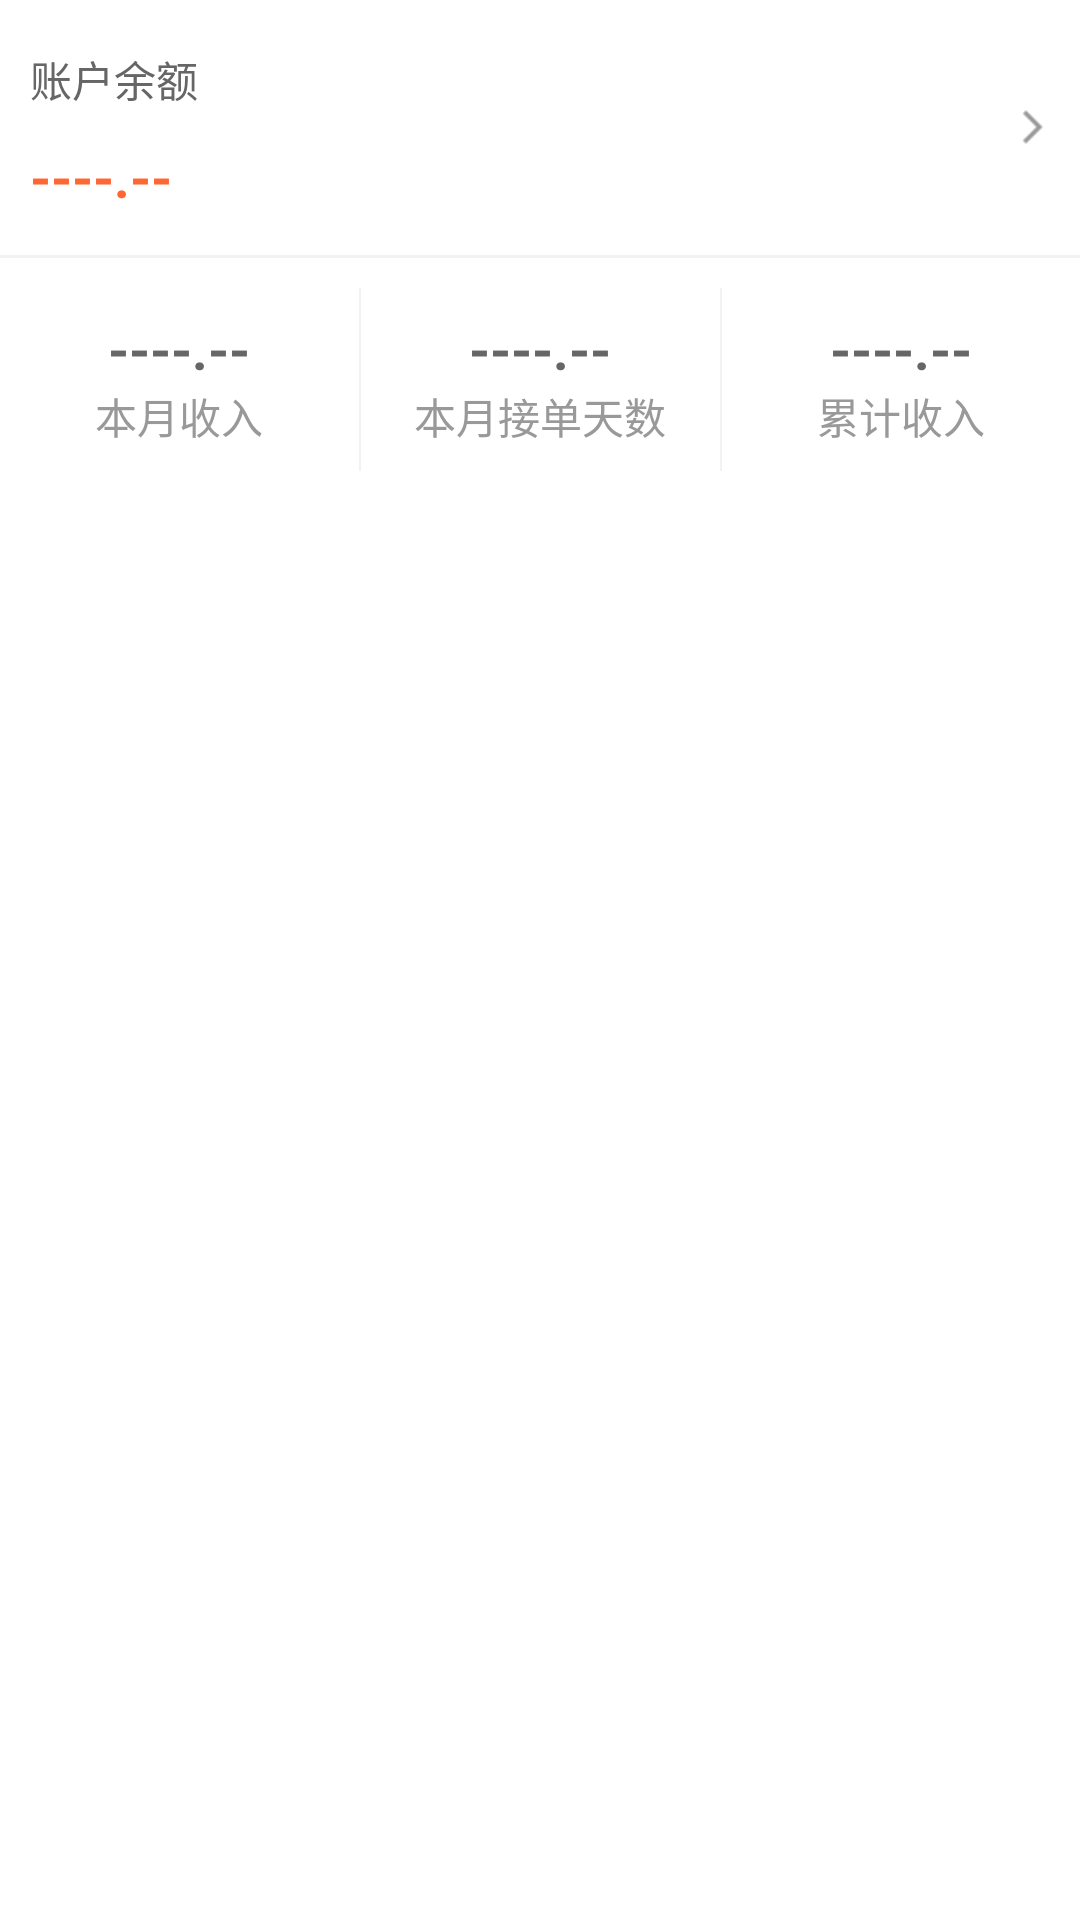

Named icons in this screenshot (1080 × 1920) and their bounding boxes, {"left": x1, "top": y1, "right": x2, "bottom": y2}:
arrow right: {"left": 1023, "top": 110, "right": 1043, "bottom": 144}
